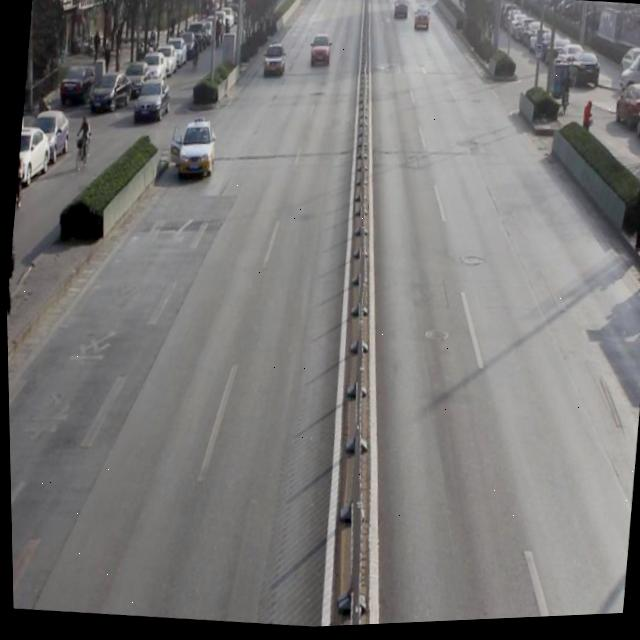car: (172, 113, 220, 185), (260, 39, 290, 85), (306, 32, 335, 72), (412, 4, 432, 41), (391, 0, 411, 27)
